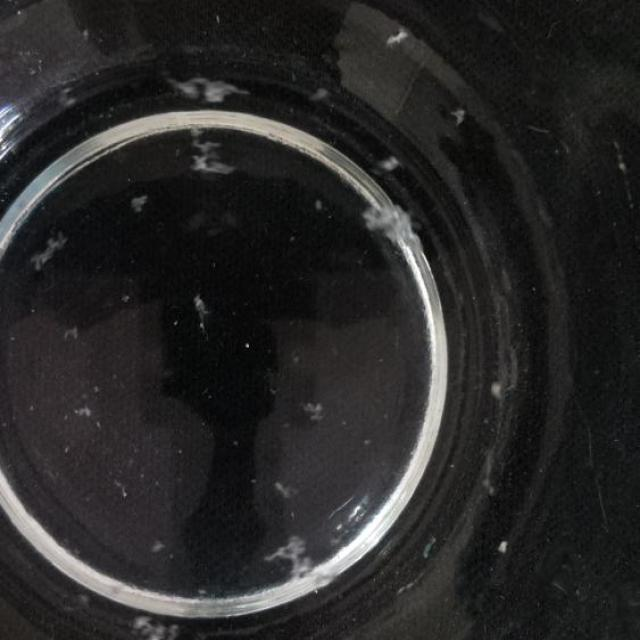fiber: (261, 524, 324, 588), (159, 72, 251, 110), (22, 231, 72, 280), (363, 199, 417, 244), (193, 131, 232, 184), (127, 612, 189, 638), (442, 94, 481, 132), (375, 17, 416, 51), (48, 78, 88, 110), (298, 396, 331, 429), (125, 183, 151, 223), (301, 84, 338, 110), (267, 471, 300, 499), (488, 539, 520, 565), (190, 292, 212, 325), (71, 402, 100, 423), (380, 151, 408, 172)
